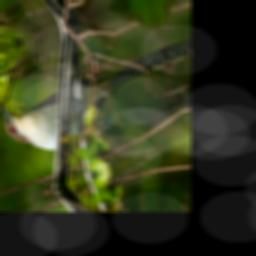Cuckoo: (0, 44, 181, 168)
